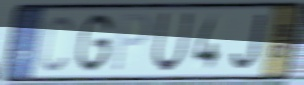4: (191, 13, 221, 72)
C: (40, 13, 74, 74)
G: (74, 11, 115, 75)
J: (230, 11, 268, 72)
P: (111, 11, 153, 74)
U: (151, 11, 195, 74)
